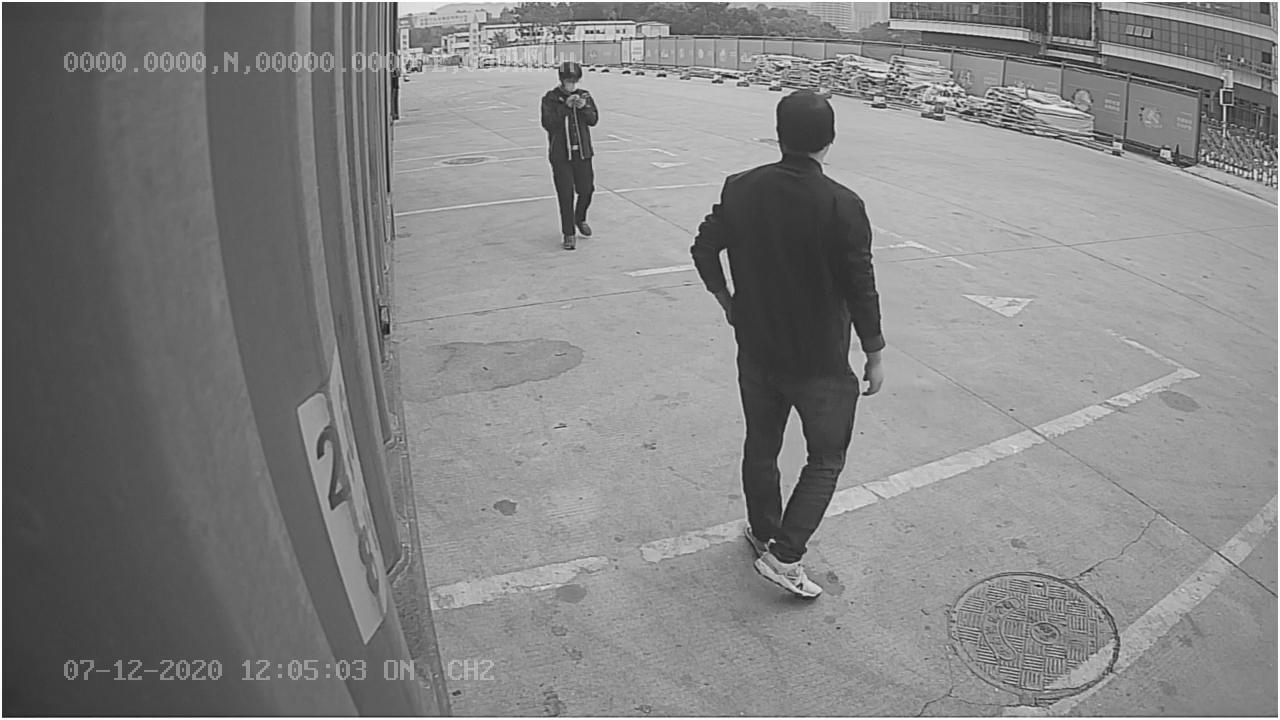person: (691, 73, 891, 600)
